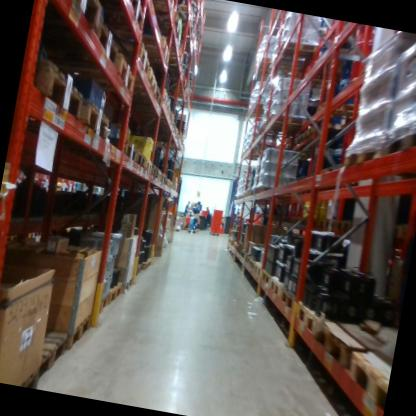pallet: (310, 310, 394, 384), (291, 291, 372, 349), (24, 58, 89, 123), (74, 8, 126, 75), (341, 345, 392, 409), (270, 32, 344, 74), (27, 319, 74, 380), (309, 92, 376, 133), (40, 0, 104, 33), (75, 96, 119, 141), (254, 52, 308, 86), (107, 52, 141, 97), (341, 143, 384, 178), (131, 53, 162, 100), (132, 30, 174, 63), (387, 121, 416, 163), (123, 0, 154, 38), (263, 111, 306, 137), (63, 314, 91, 353), (279, 285, 308, 320), (266, 271, 293, 305), (129, 38, 154, 72), (165, 21, 190, 52), (103, 277, 126, 310), (147, 106, 179, 129), (380, 220, 410, 244), (166, 3, 196, 25), (258, 258, 276, 294), (155, 86, 174, 116), (19, 366, 45, 387), (97, 287, 117, 314), (164, 44, 186, 67), (118, 141, 138, 164), (336, 215, 356, 238), (146, 0, 173, 17), (310, 163, 329, 184), (324, 159, 344, 178), (150, 86, 164, 111), (322, 216, 342, 233), (252, 259, 268, 280), (245, 253, 261, 274), (299, 214, 319, 230), (132, 148, 148, 166), (118, 275, 132, 295), (142, 155, 155, 175), (315, 215, 328, 231), (286, 213, 302, 226), (148, 163, 160, 179), (303, 122, 313, 141), (158, 168, 168, 186), (153, 167, 164, 183), (133, 262, 143, 279), (139, 258, 151, 271), (7, 231, 21, 242), (34, 226, 45, 239), (187, 226, 199, 237), (25, 229, 37, 240), (209, 228, 220, 237)
